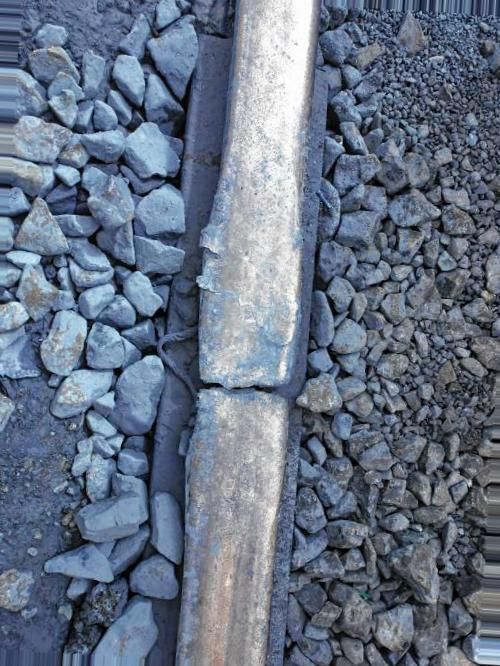tracks_fault: (177, 162, 256, 348)
